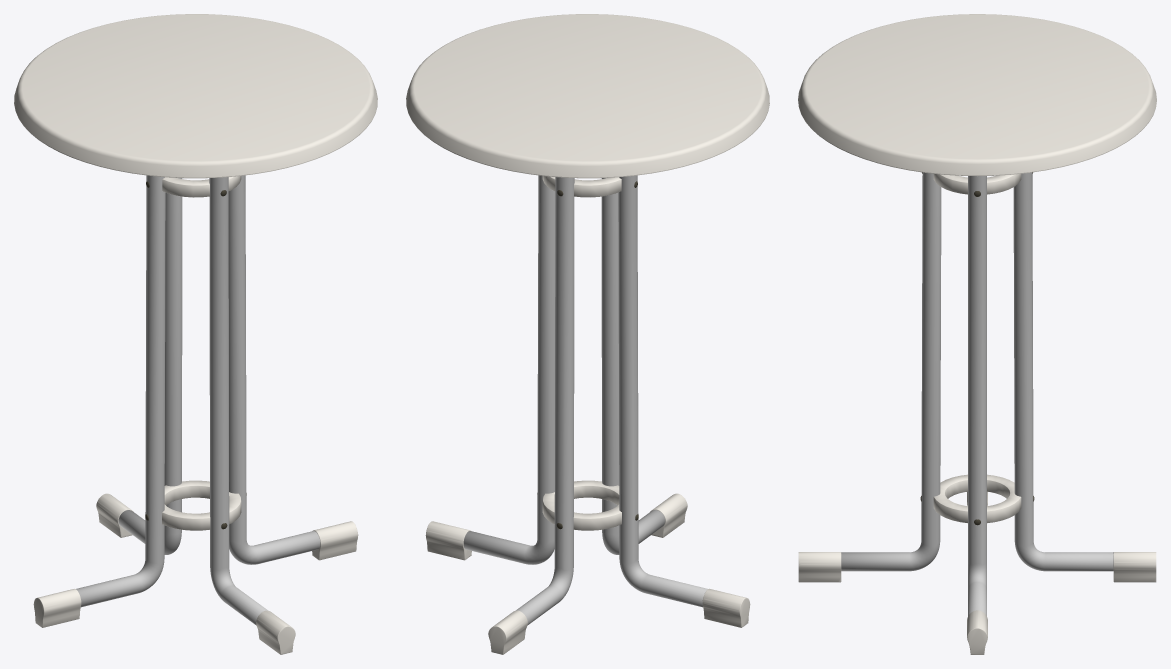
Rendered from white_outdoor_standing_table_81b62867.glb.
3 views of the same model, side by side, from view 1: azimuth 30°, elevation 25°; view 2: azimuth 150°, elevation 25°; view 3: azimuth 270°, elevation 25° (orthographic).
Visible parts, largest first — view 1: white_outdoor_standing_table_81b62867; view 2: white_outdoor_standing_table_81b62867; view 3: white_outdoor_standing_table_81b62867.
Part boxes in pixels (<box>): white_outdoor_standing_table_81b62867: <box>14,14,377,654</box>; white_outdoor_standing_table_81b62867: <box>406,14,769,654</box>; white_outdoor_standing_table_81b62867: <box>798,14,1156,654</box>.
Bounding box in the file's own units: 0.7592 × 1.15 × 0.7592.
3 materials, 2 textured.
